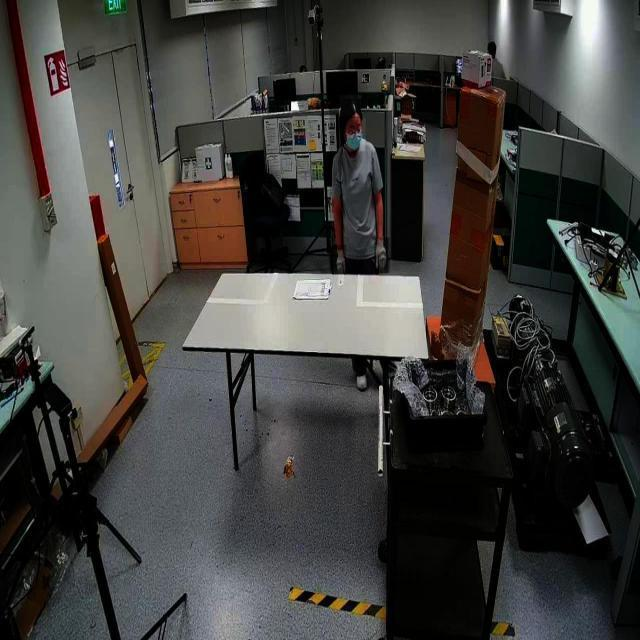gloves: (374, 237, 390, 274), (332, 244, 347, 276)
